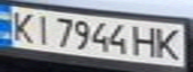4: (90, 19, 112, 54), (109, 20, 130, 55)
7: (51, 15, 75, 48)
9: (69, 18, 93, 52)
H: (130, 24, 160, 58)
I: (30, 11, 54, 46)
K: (151, 25, 187, 61), (3, 8, 39, 43)
